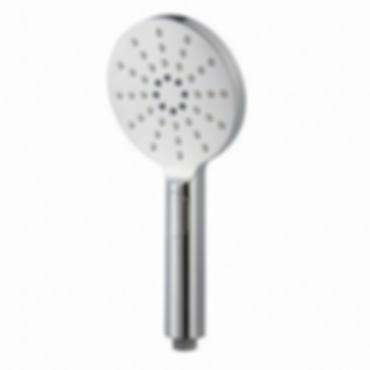Ducha: (95, 7, 240, 358)
